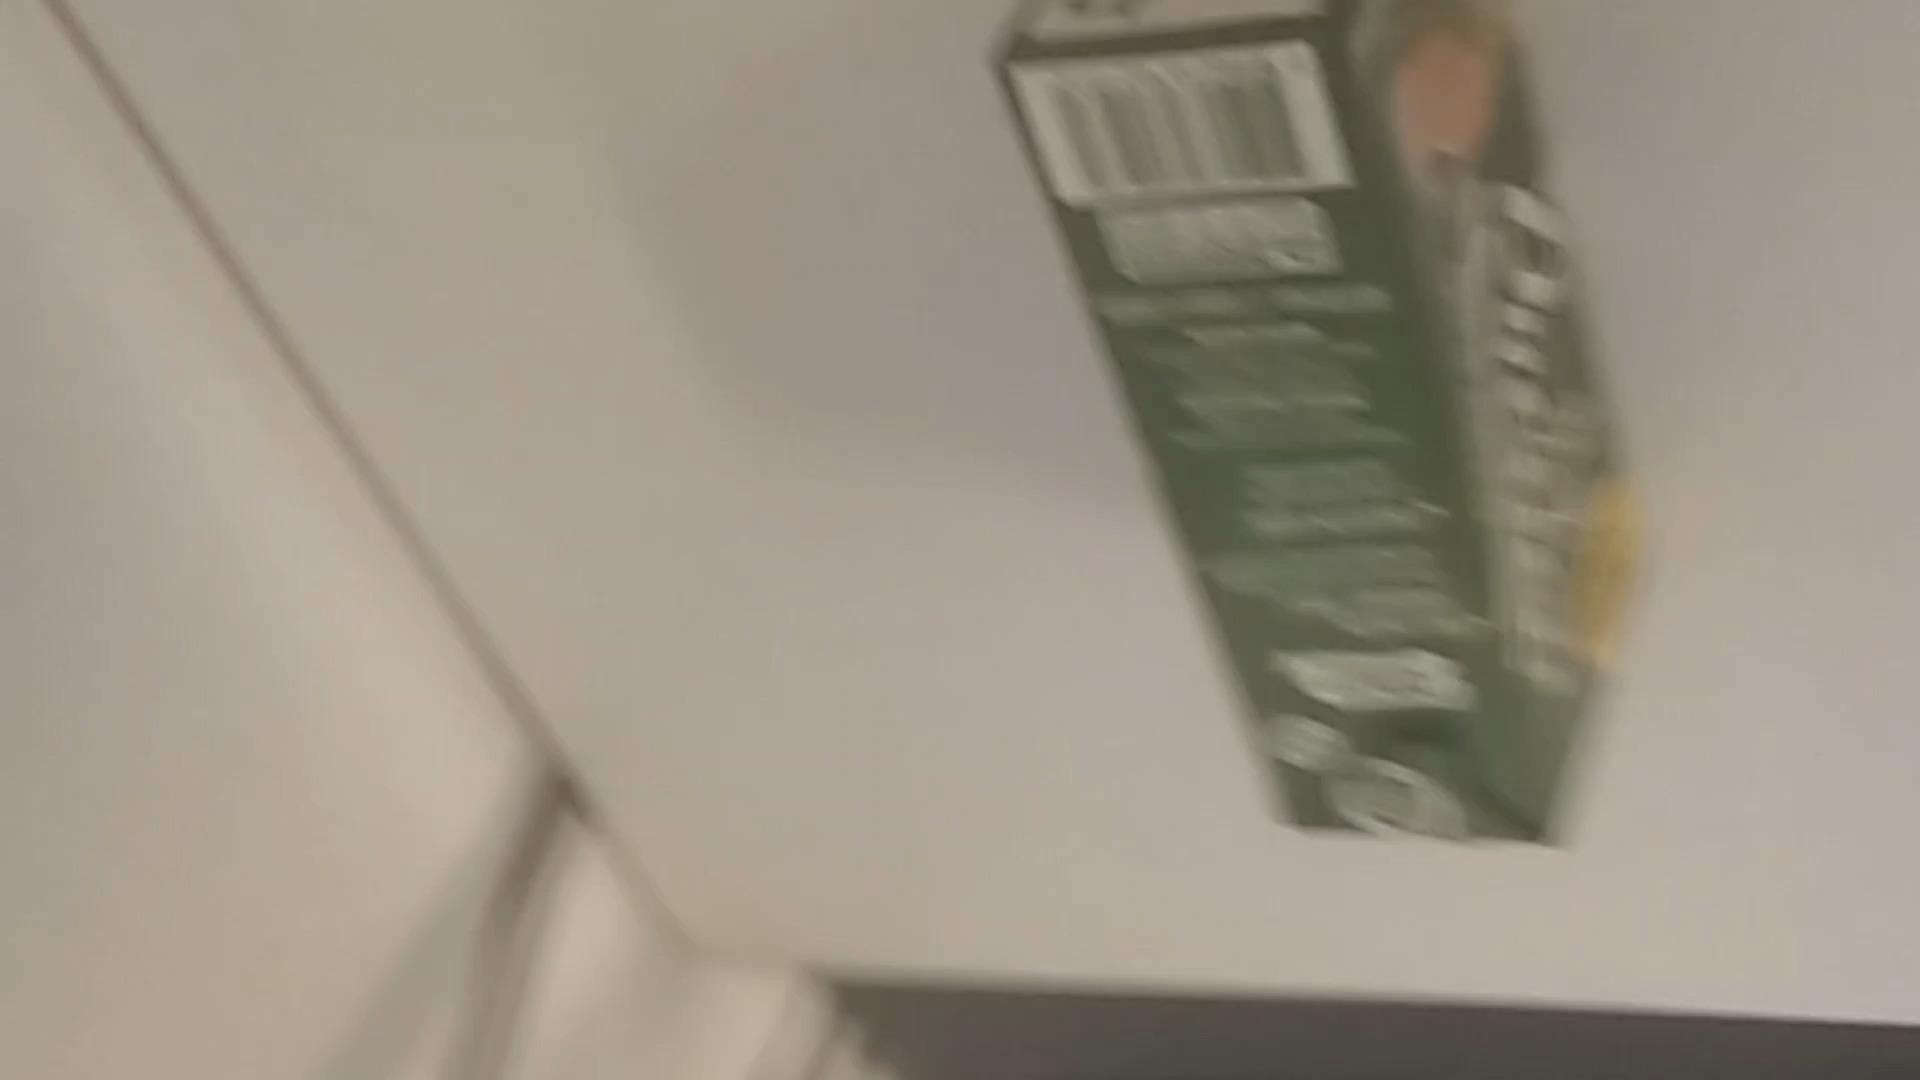coco: (1002, 0, 1655, 851)
